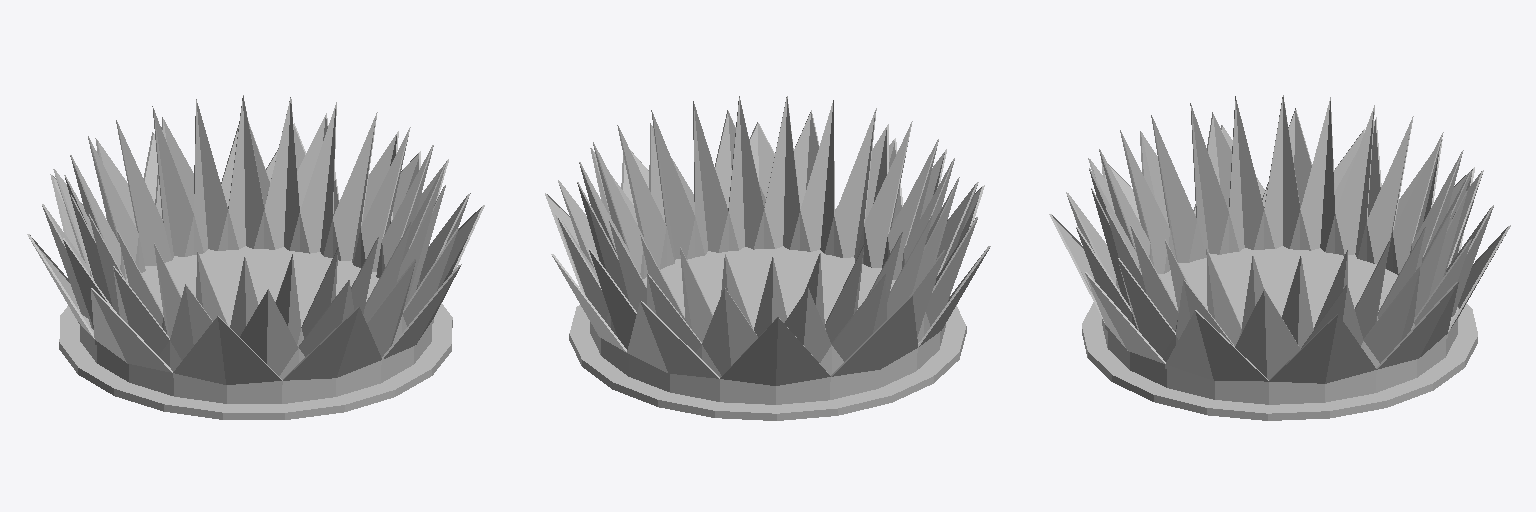
Rendered from portal_000022.obj.
The picture shows the model from 3 angles: view 1: azimuth 30°, elevation 25°; view 2: azimuth 150°, elevation 25°; view 3: azimuth 270°, elevation 25°; orthographic projection.
Visible parts, largest first — view 1: Cylinder.001, pCylinder1, Cylinder; view 2: Cylinder.001, pCylinder1, Cylinder; view 3: Cylinder.001, pCylinder1, Cylinder.
Part boxes in pixels (x1,y1,x2,y2): Cylinder.001: (64,95,445,346); pCylinder1: (27,123,484,419); Cylinder: (42,113,470,379); Cylinder.001: (577,96,959,342); pCylinder1: (545,122,990,420); Cylinder: (557,110,978,377); Cylinder.001: (1089,95,1470,348); pCylinder1: (1049,125,1510,420); Cylinder: (1066,108,1493,379).
Bounding box in the file's own units: 7.21 × 2.9 × 7.44.